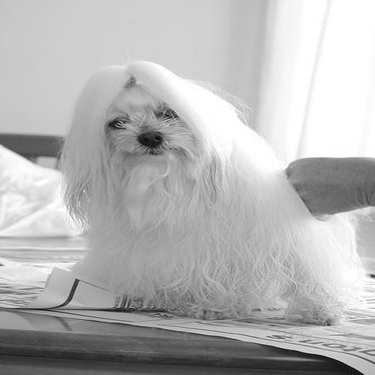dog: (51, 48, 373, 328)
